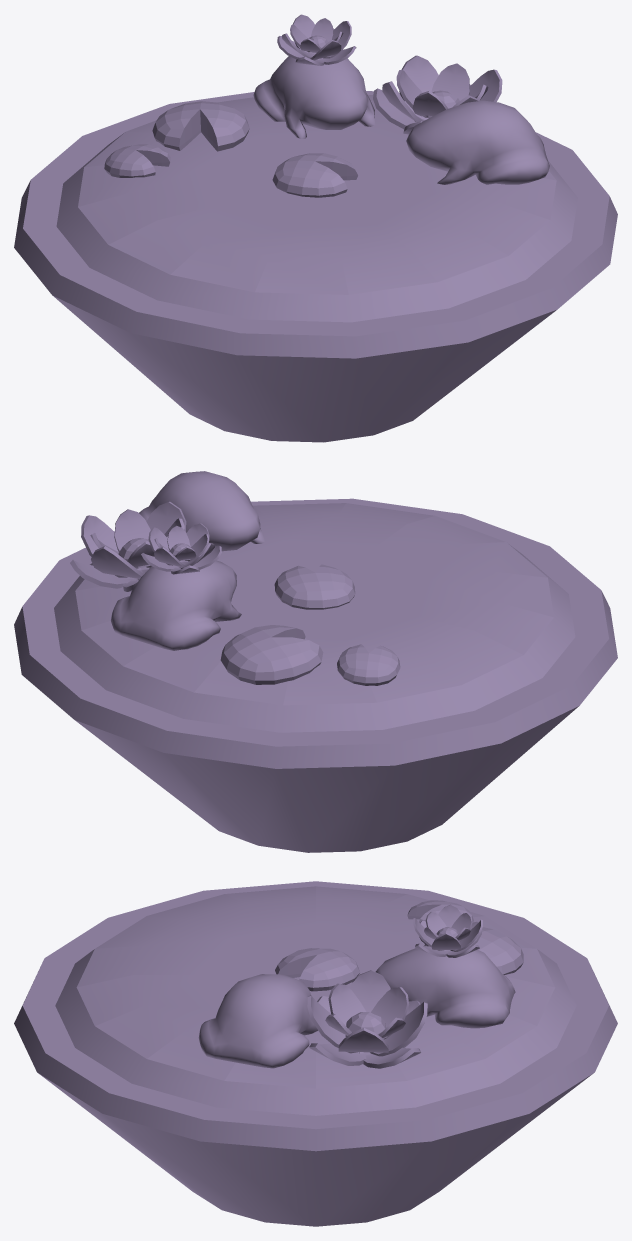
The model's file is PROPS_GOODS_CARACS_MODEL.fbx.
3 views of the same model, one above another, from view 1: azimuth 30°, elevation 25°; view 2: azimuth 150°, elevation 25°; view 3: azimuth 270°, elevation 25° (orthographic).
Visible parts, largest first — view 1: PROPS_GOODS_CARACS_MODEL; view 2: PROPS_GOODS_CARACS_MODEL; view 3: PROPS_GOODS_CARACS_MODEL.
Part boxes in pixels (box(x1,y1,x2,y2)): PROPS_GOODS_CARACS_MODEL: box(14, 14, 617, 442); PROPS_GOODS_CARACS_MODEL: box(14, 471, 617, 852); PROPS_GOODS_CARACS_MODEL: box(14, 881, 617, 1226).
Bounding box in the file's own units: 12.22 × 6.55 × 12.22.
